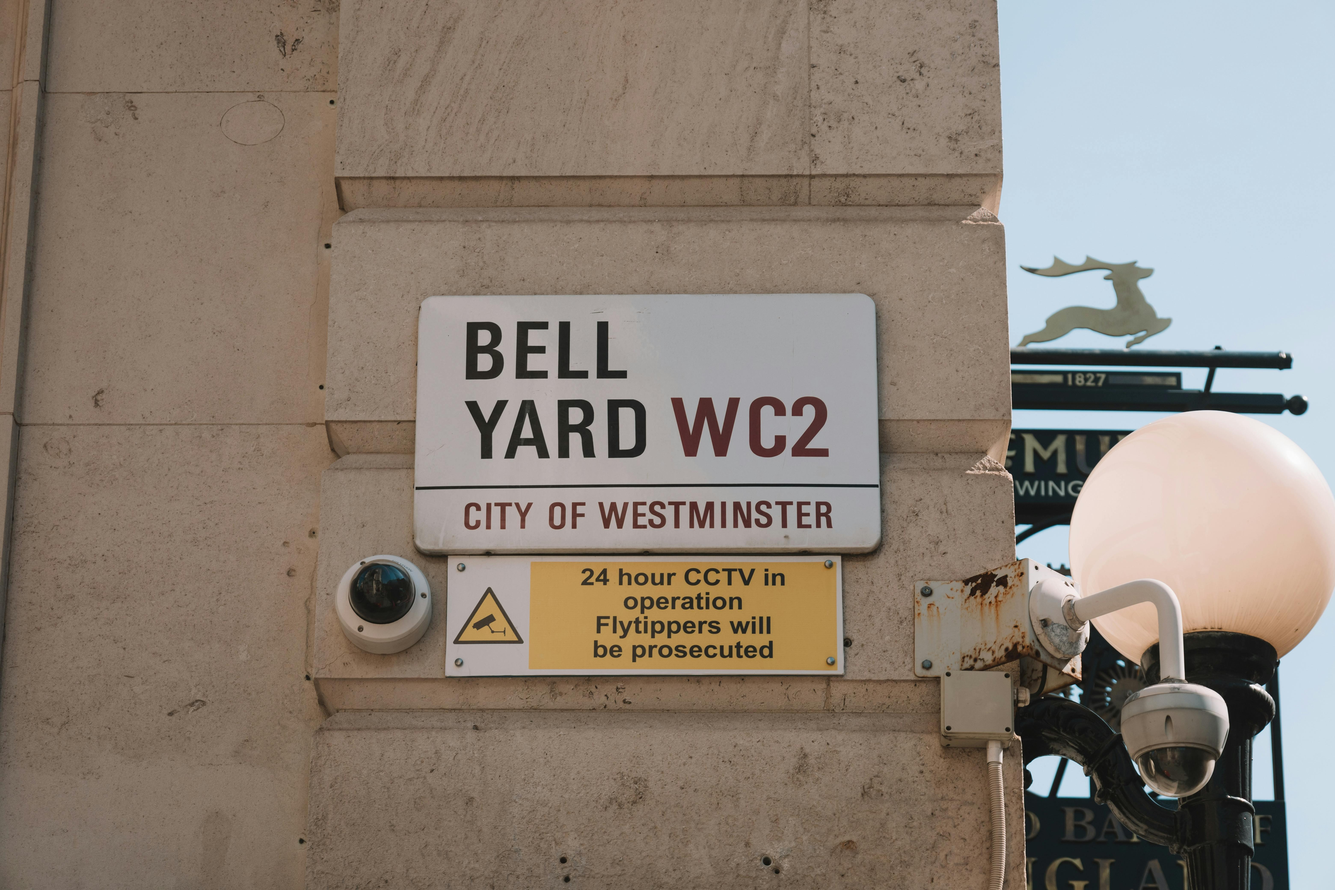camera: (306, 492, 462, 682), (1098, 659, 1262, 828)
